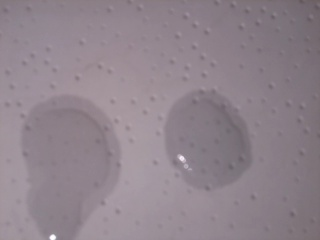Water_detected: (35, 111, 112, 220), (173, 103, 236, 182)
